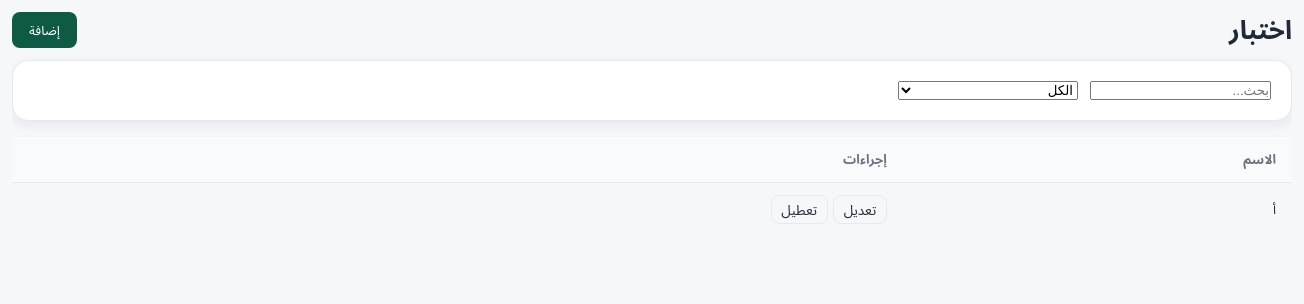
it: ReferenceDataPage › shows only error after deactivate fails
The image size is (1304, 304).
What coordinates should you click on to do the following:
click the button "تعطيل"
I would click on:
 (799, 210)
Its box is [771,195,828,224].
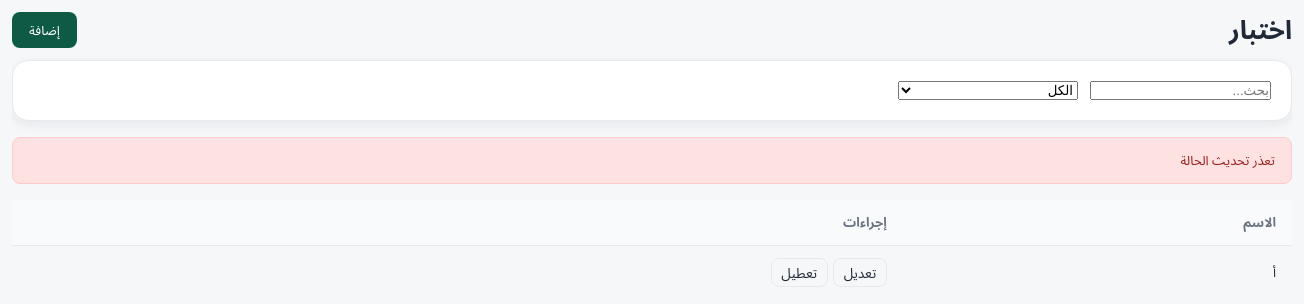
Expected: the text "تعذر تحديث الحالة" is shown, [12,137,1292,184]
